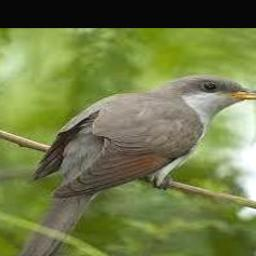Cuckoo: (14, 75, 256, 256)
